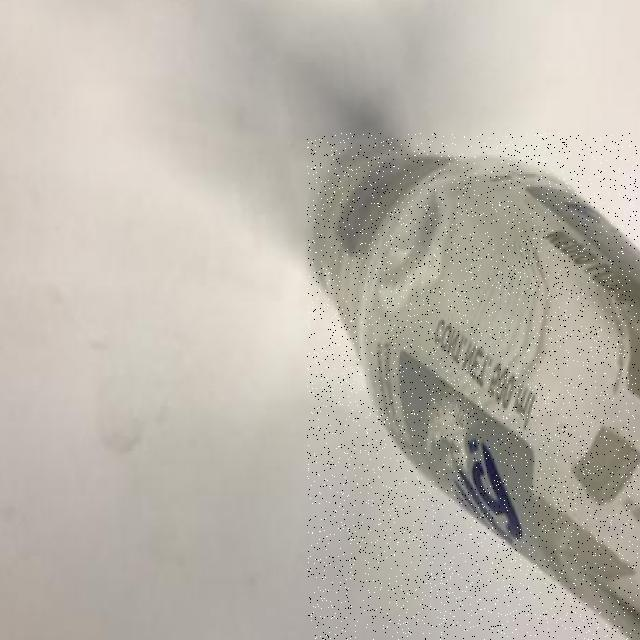glass: (308, 133, 640, 640)
